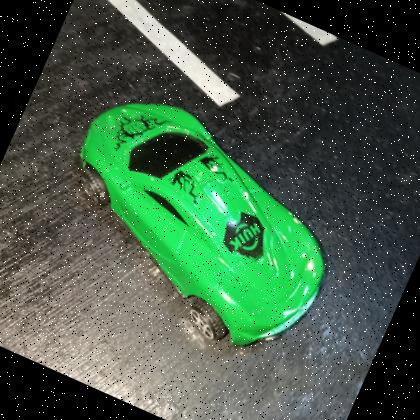Car: (79, 104, 325, 348)
